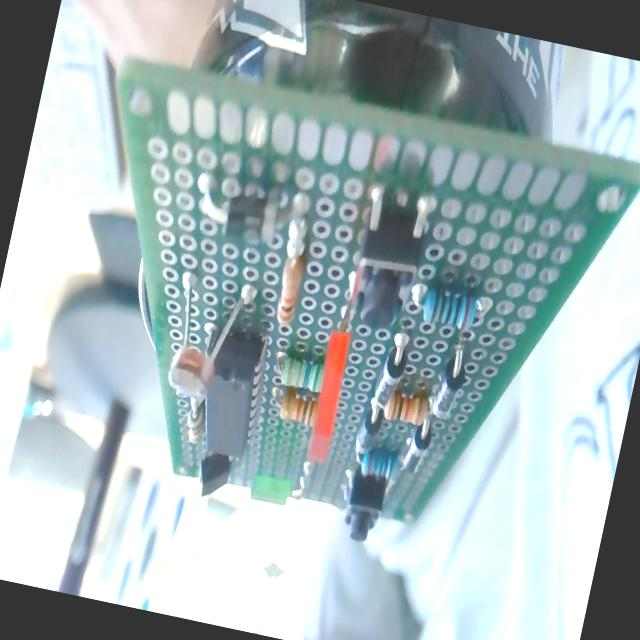IC: (186, 322, 276, 464)
cds: (160, 266, 250, 409)
diode: (188, 167, 308, 257), (429, 353, 469, 422), (370, 342, 409, 412), (398, 418, 434, 477), (352, 408, 384, 460)
led: (302, 254, 368, 462), (244, 450, 317, 516)
resistor: (403, 278, 483, 338), (270, 250, 308, 329), (277, 354, 326, 394), (384, 389, 431, 428), (276, 388, 320, 428), (358, 444, 399, 483), (182, 402, 208, 446)
switch: (345, 202, 429, 335), (338, 469, 388, 545)
transistor: (189, 442, 247, 506)
